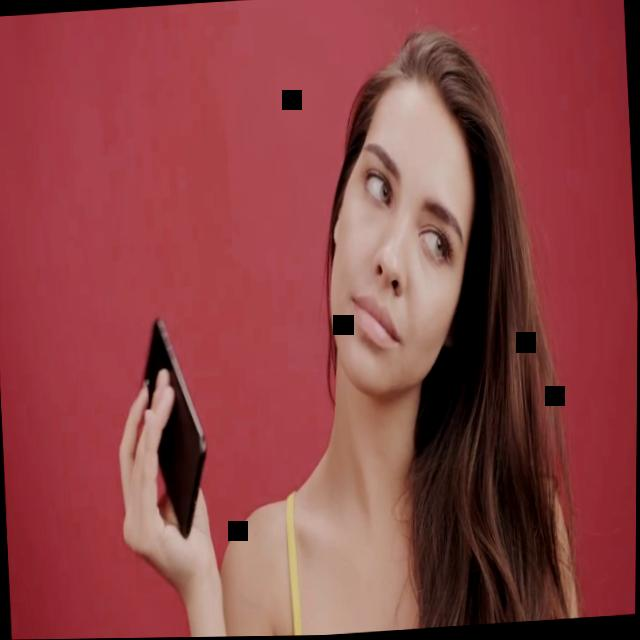NO-Mask: (320, 105, 477, 403)
